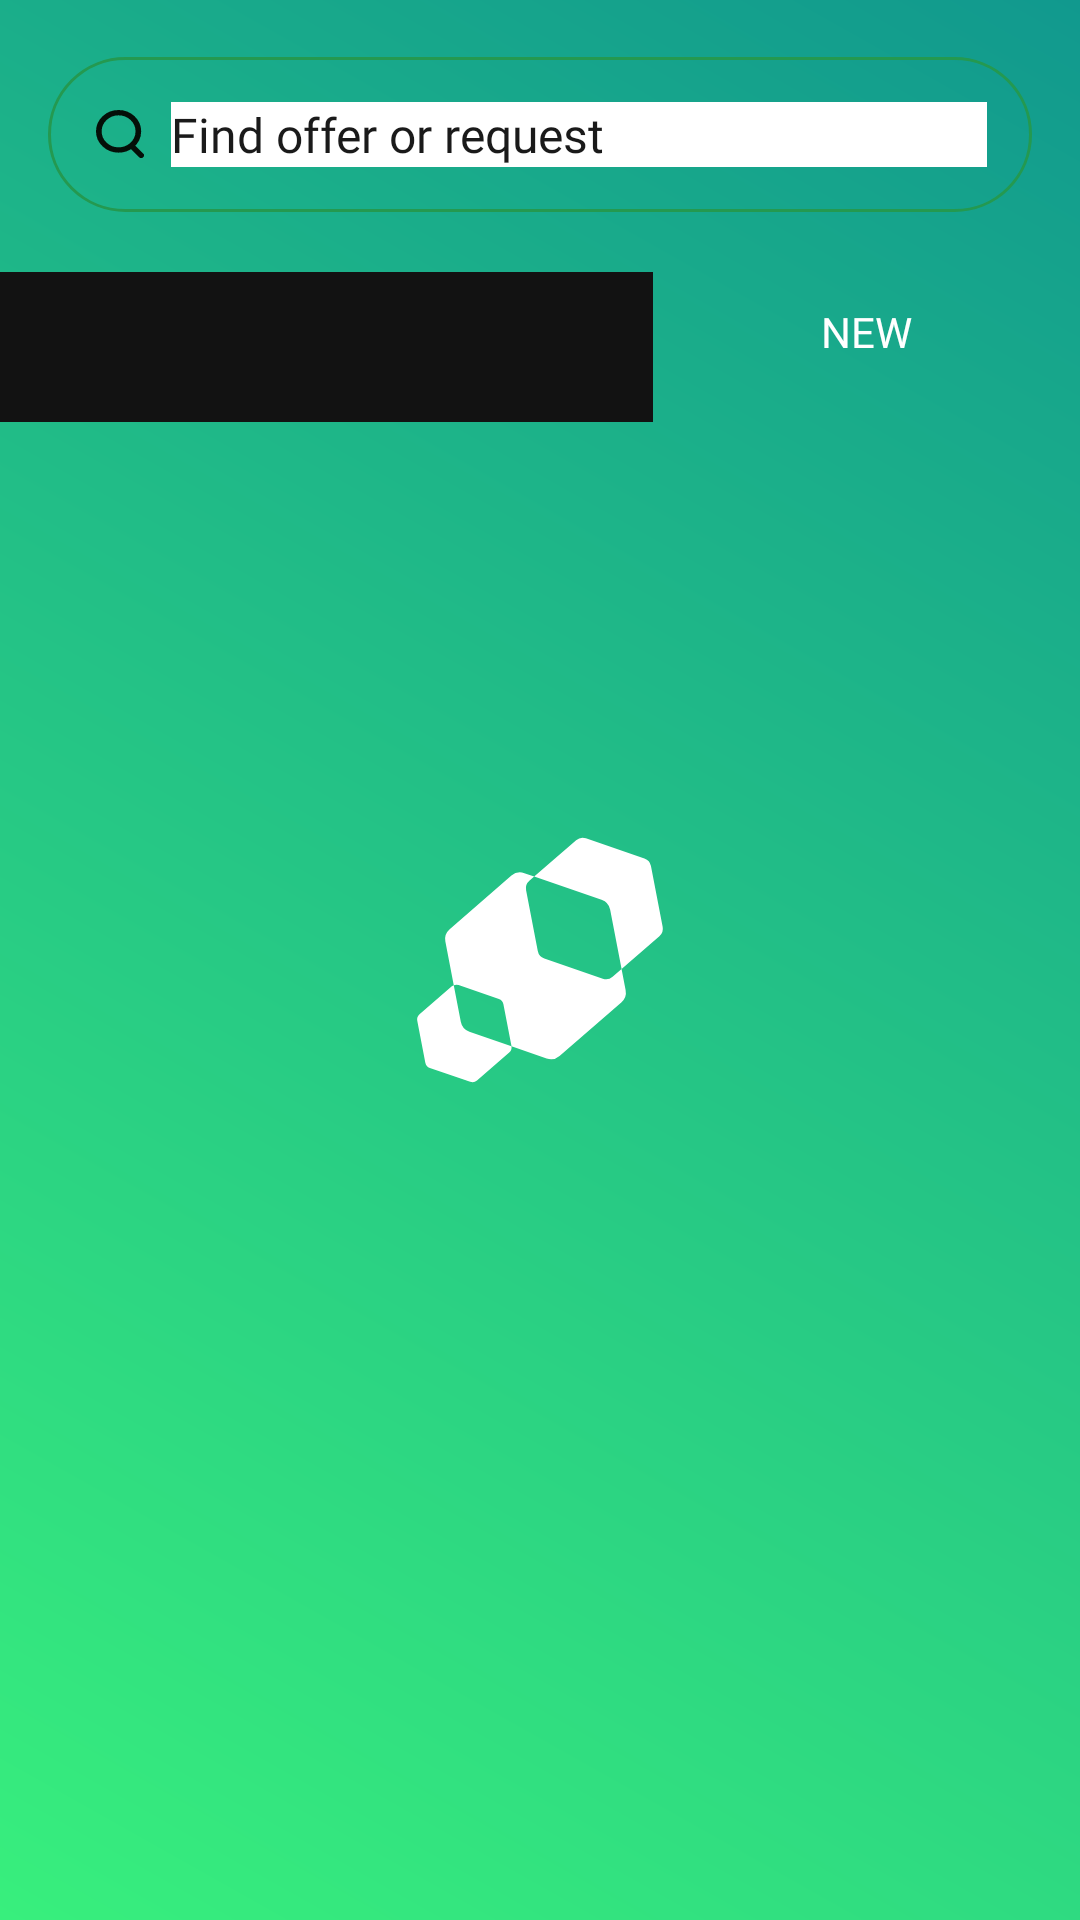

Icons on this 1080*1920 Android screen, each with the point to tap as [x,y]:
search: [120,134]
